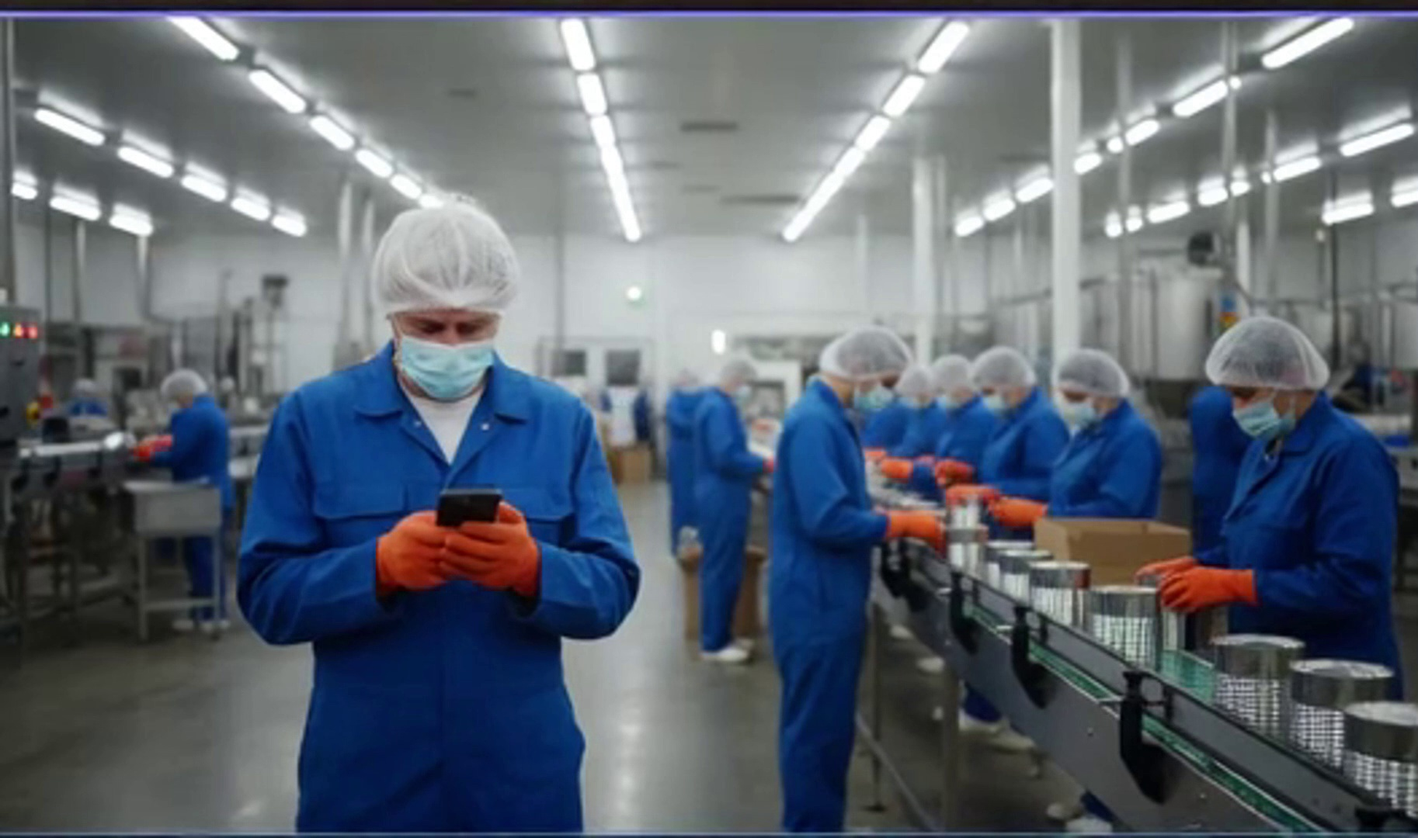employé: (310, 205, 606, 796), (771, 321, 901, 817), (1186, 313, 1395, 598), (701, 339, 773, 647), (148, 346, 241, 577), (641, 340, 711, 631), (1053, 333, 1159, 519), (973, 330, 1053, 503), (888, 346, 938, 504), (943, 325, 978, 486)
employé actif: (780, 344, 909, 733), (1204, 331, 1334, 590), (703, 359, 759, 618), (1055, 353, 1136, 511), (970, 342, 1043, 493), (158, 364, 222, 522), (657, 353, 698, 553), (931, 352, 983, 480), (900, 359, 927, 495)
employé inactif: (365, 232, 536, 731)
machine: (916, 551, 1409, 828), (10, 408, 242, 602)
